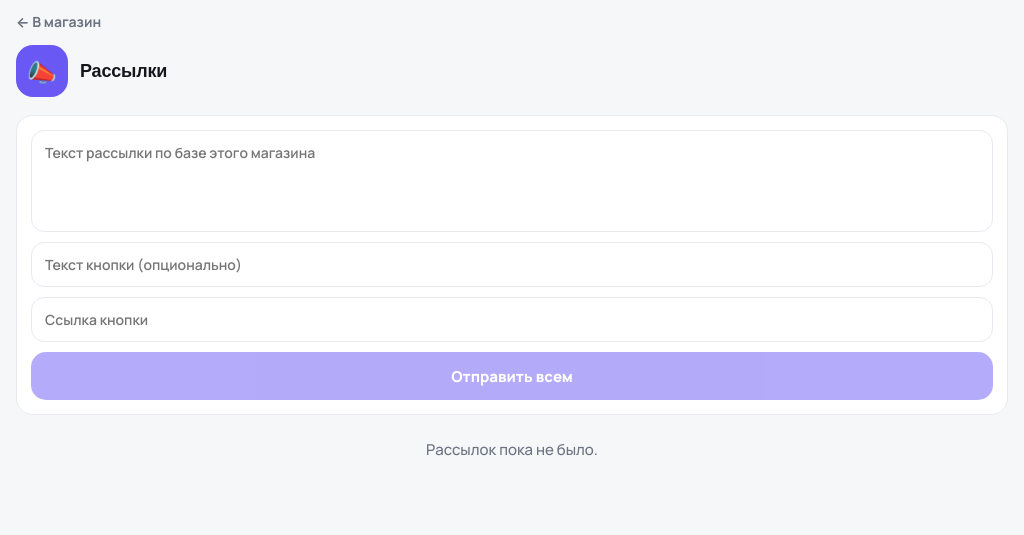
MailingsView — форма и история › отправка зовёт createMailing и обновляет список
Type "Привет!" into the text box with placeholder "Текст рассылки по базе этого магазина" at (512,181), box x1=31 y1=130 x2=993 y2=232
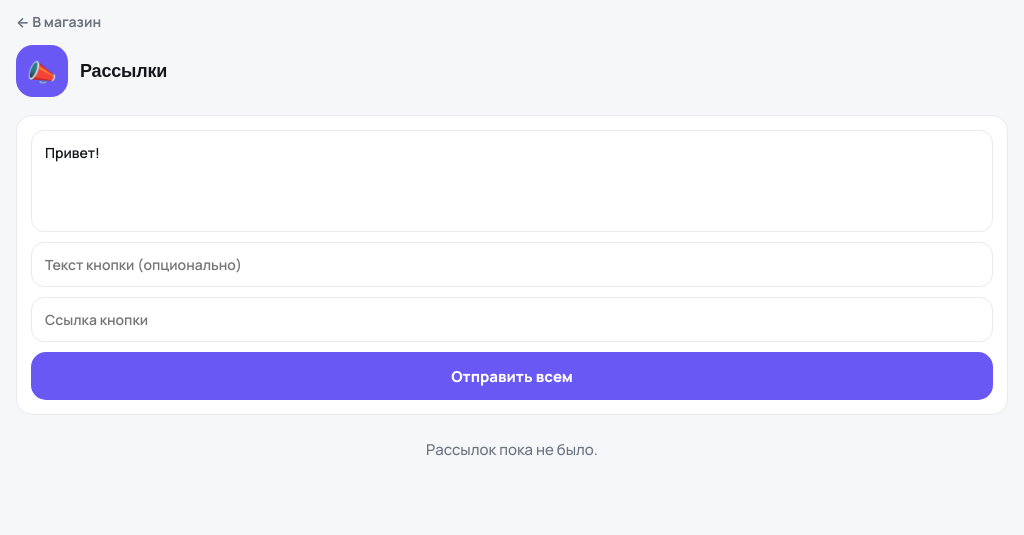
Click the button "Отправить всем" at (512,376), box x1=31 y1=352 x2=993 y2=400
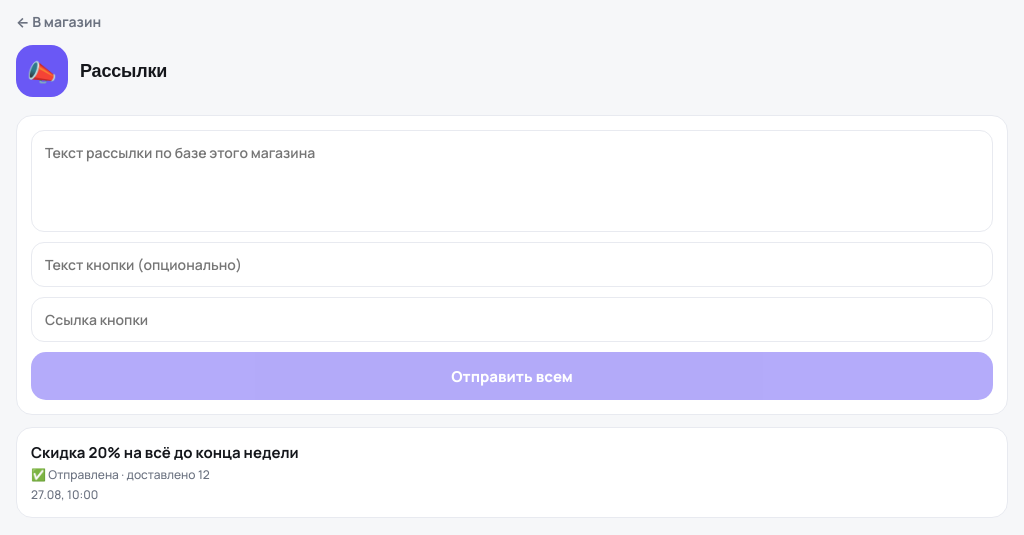
Expected: the text box with placeholder "Текст рассылки по базе этого магазина" is empty, x1=31 y1=130 x2=993 y2=232
Expected: the text "доставлено 12" is shown, x1=121 y1=466 x2=210 y2=483
